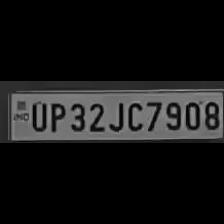0: (182, 98, 200, 130)
2: (86, 98, 106, 132)
3: (66, 98, 86, 132)
7: (143, 98, 161, 132)
8: (200, 98, 220, 130)
9: (162, 99, 182, 131)
C: (124, 98, 144, 132)
J: (106, 98, 124, 132)
P: (46, 100, 66, 132)
U: (27, 99, 46, 131)
